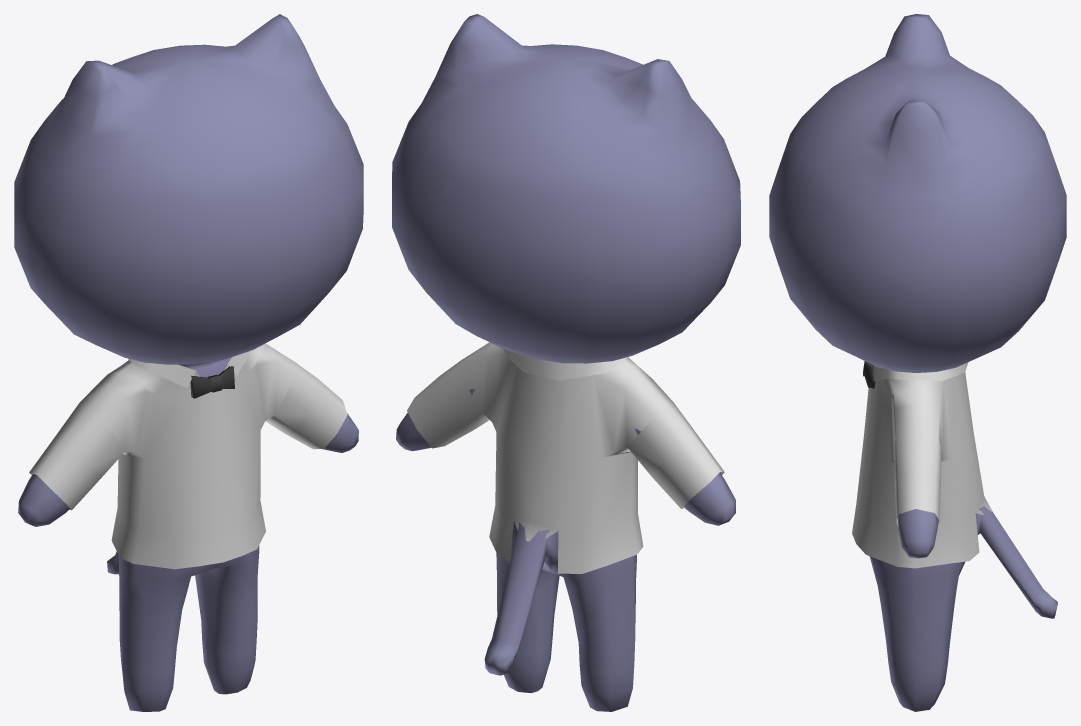
File: CatCustom.fbx
3 views of the same model, side by side, from view 1: azimuth 30°, elevation 25°; view 2: azimuth 150°, elevation 25°; view 3: azimuth 270°, elevation 25° (orthographic). The views are drawn at different scales.
Parts seen in each view (by area): view 1: Cat_base, cat_low6, pCube1; view 2: Cat_base, cat_low6; view 3: Cat_base, cat_low6.
Boxes of the visible parts, x1,y1,x2,y2 form: Cat_base: (14, 14, 363, 711); cat_low6: (29, 343, 347, 569); pCube1: (190, 366, 234, 398); Cat_base: (392, 14, 740, 711); cat_low6: (407, 342, 724, 573); Cat_base: (769, 14, 1066, 711); cat_low6: (852, 362, 992, 568).
Size of the model in its own units: 0.6366 by 1.2 by 0.5128.
